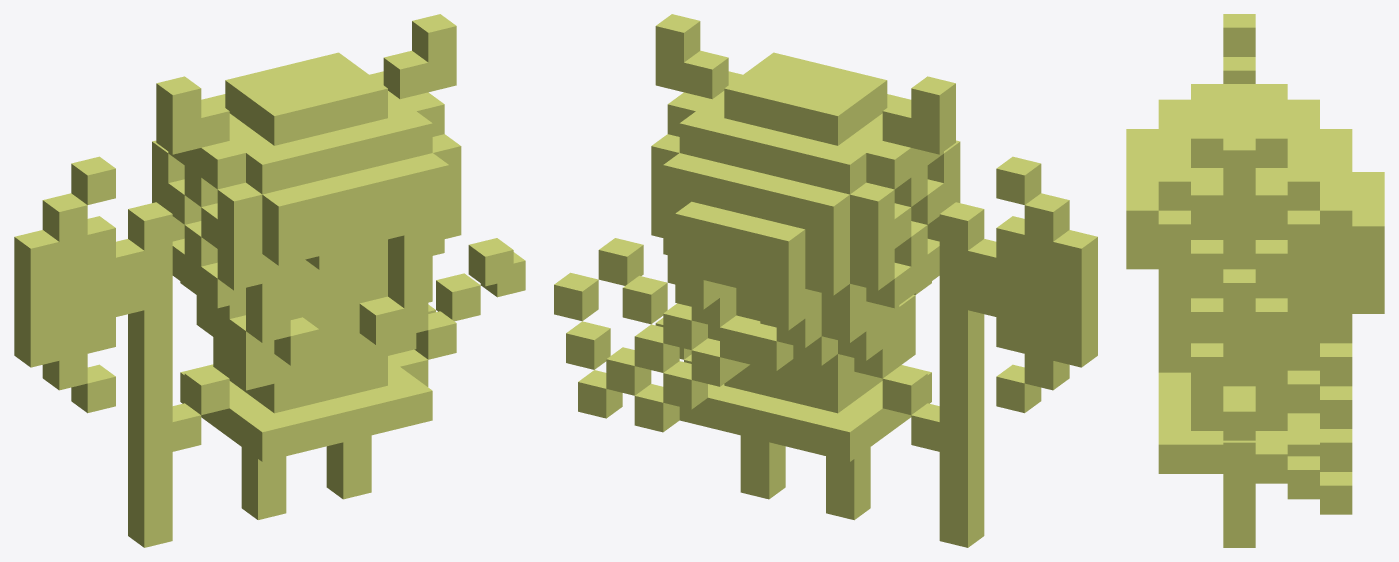
Rendered from Cubeland-0.obj.
3 renders of one model, left to right at view 1: azimuth 30°, elevation 25°; view 2: azimuth 150°, elevation 25°; view 3: azimuth 270°, elevation 25°, orthographic.
Bounding box in the file's own units: 3.6 × 3 × 1.6.
1 material, 1 textured.
